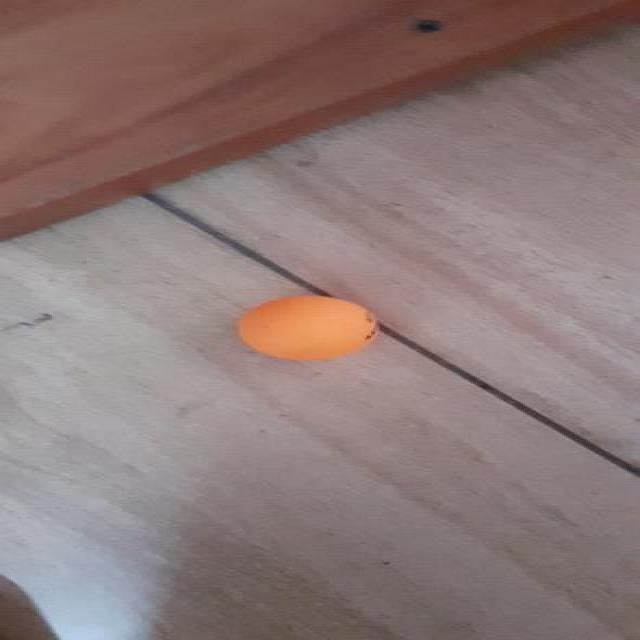oball: (238, 296, 376, 360)
